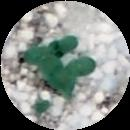Basil: (46, 64, 73, 92), (22, 48, 57, 69), (67, 54, 96, 78), (52, 35, 75, 56)
